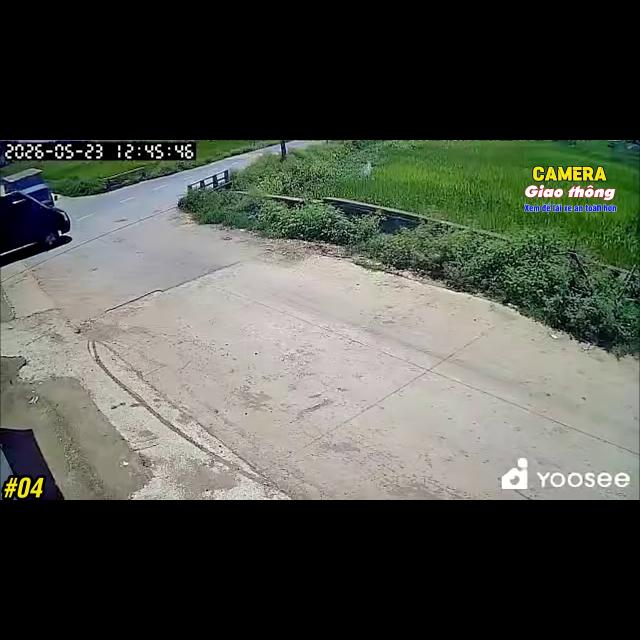truck: (0, 169, 70, 254), (0, 168, 54, 206)
